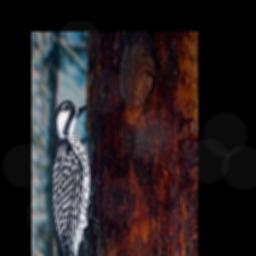Woodpecker: (49, 93, 99, 256)
